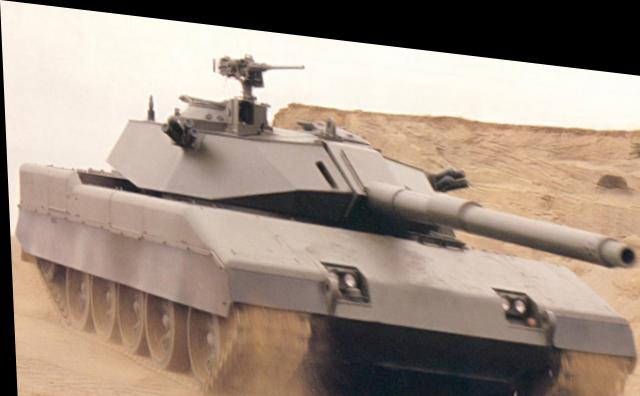tank: (9, 17, 640, 394)
